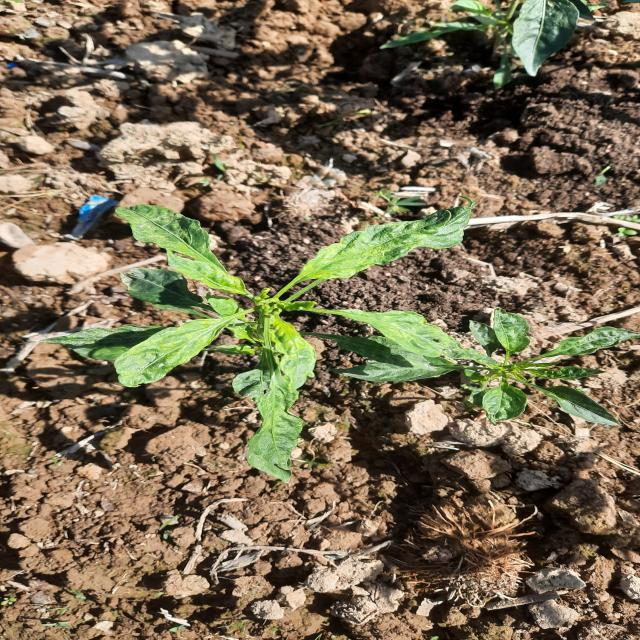virus_kuning: (301, 196, 483, 286), (265, 314, 324, 378)
